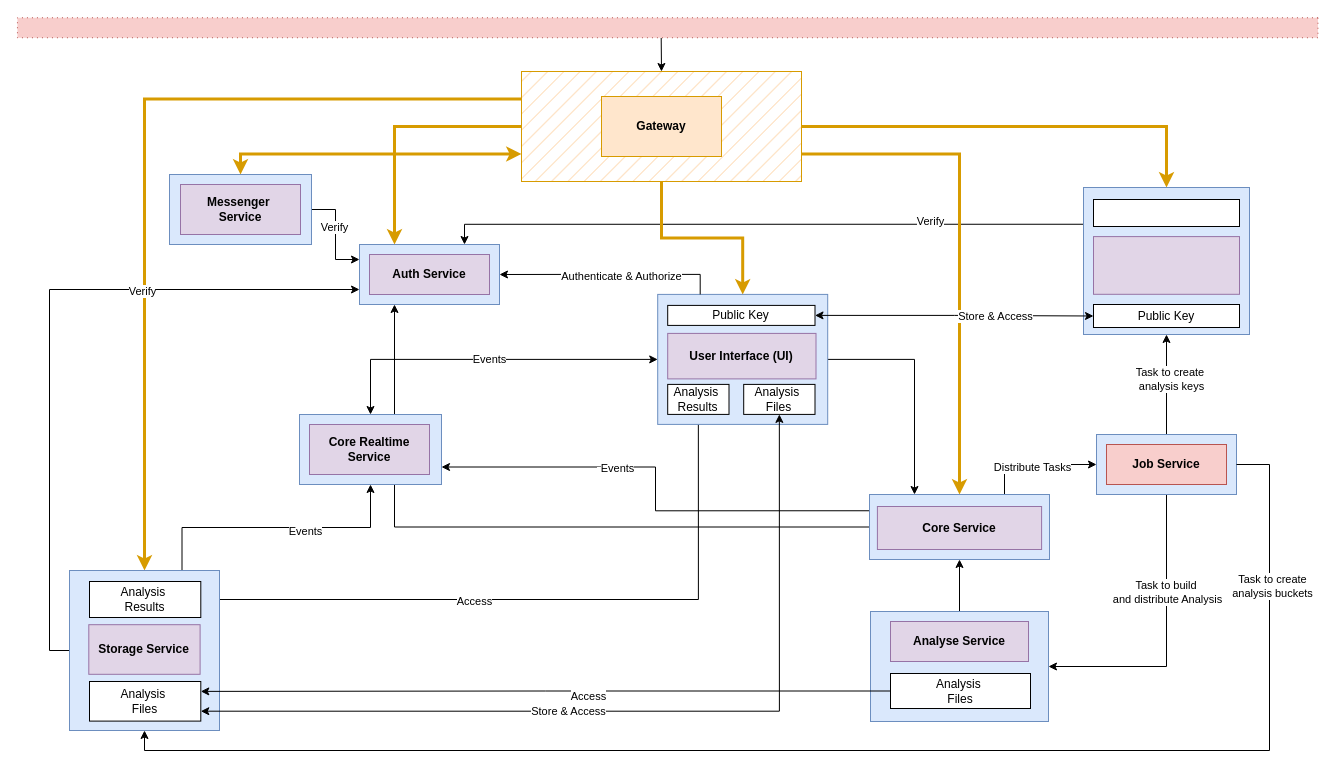
Some shapes in this 1336 by 776 pixel diagram are drawn without their labels. Each missing label, with the centre of its shape:
"Analysis Key" goes at (x=1166, y=212).
"Firewall" goes at (x=667, y=27).
"Key Service" goes at (x=1166, y=265).
